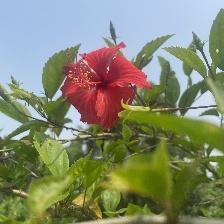hibiscus: (60, 40, 148, 130)
